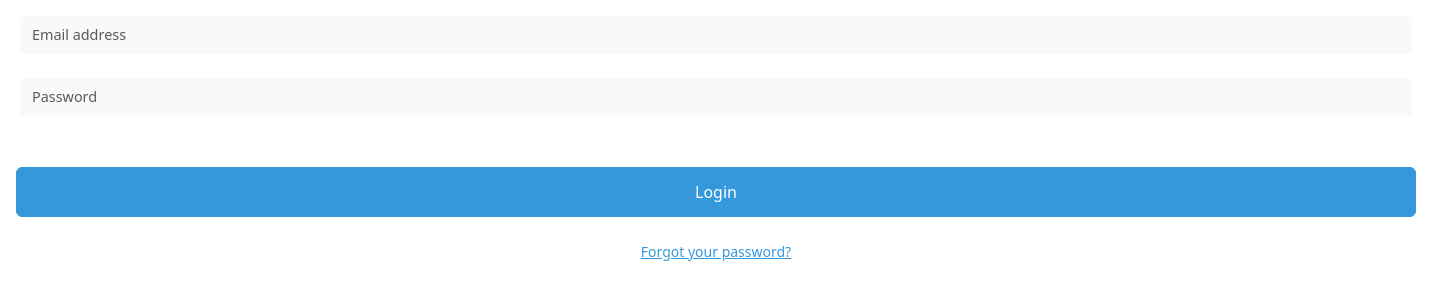
Test: UserLogin Component › Login Error Scenarios › shows error message and clears password when login fails
Type "test@example.com" into the field with placeholder "Email address" at (716, 35), box [20,16,1412,54]
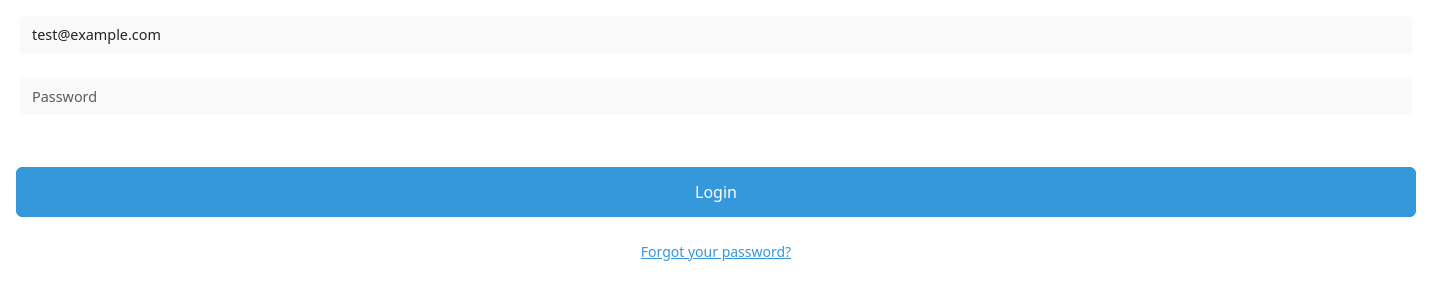
Type "password123" into the password field with placeholder "Password" at (716, 96), box [20,78,1412,115]
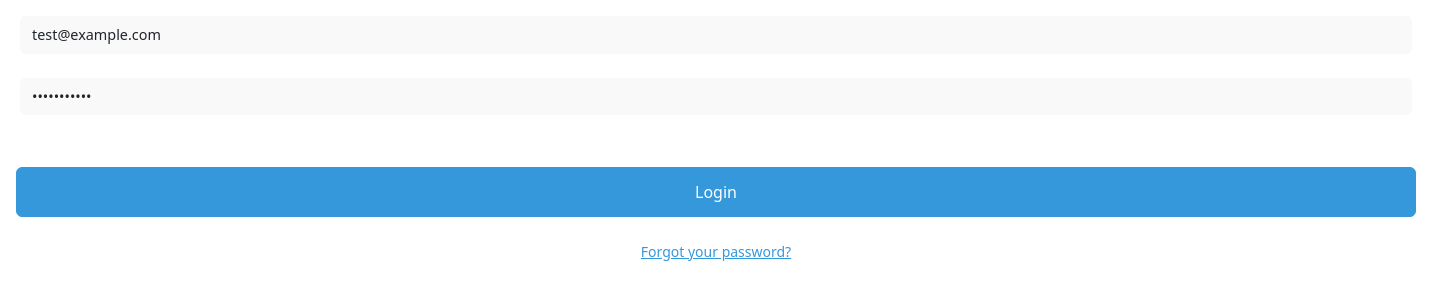
Click the button "Login" at (716, 192), box [16,167,1416,217]
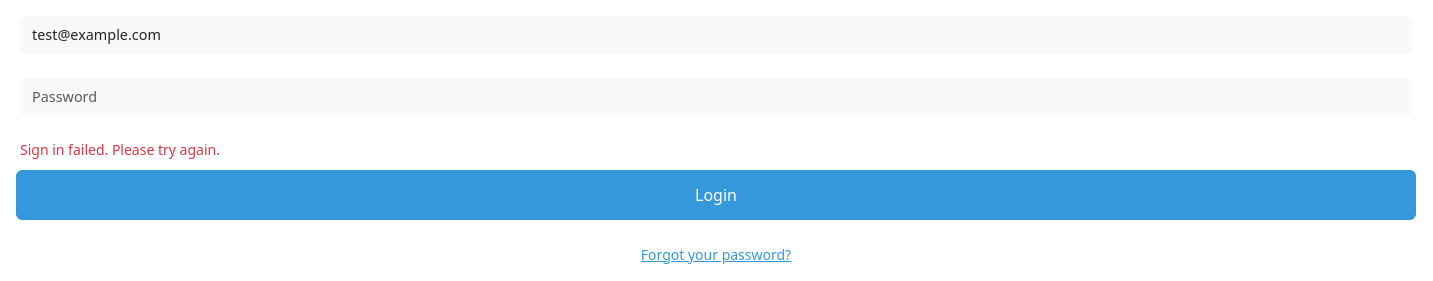
Expected: the text "Sign in failed. Please try again." is shown, [20,140,220,159]
Expected: the password field with placeholder "Password" is empty, [20,78,1412,115]
